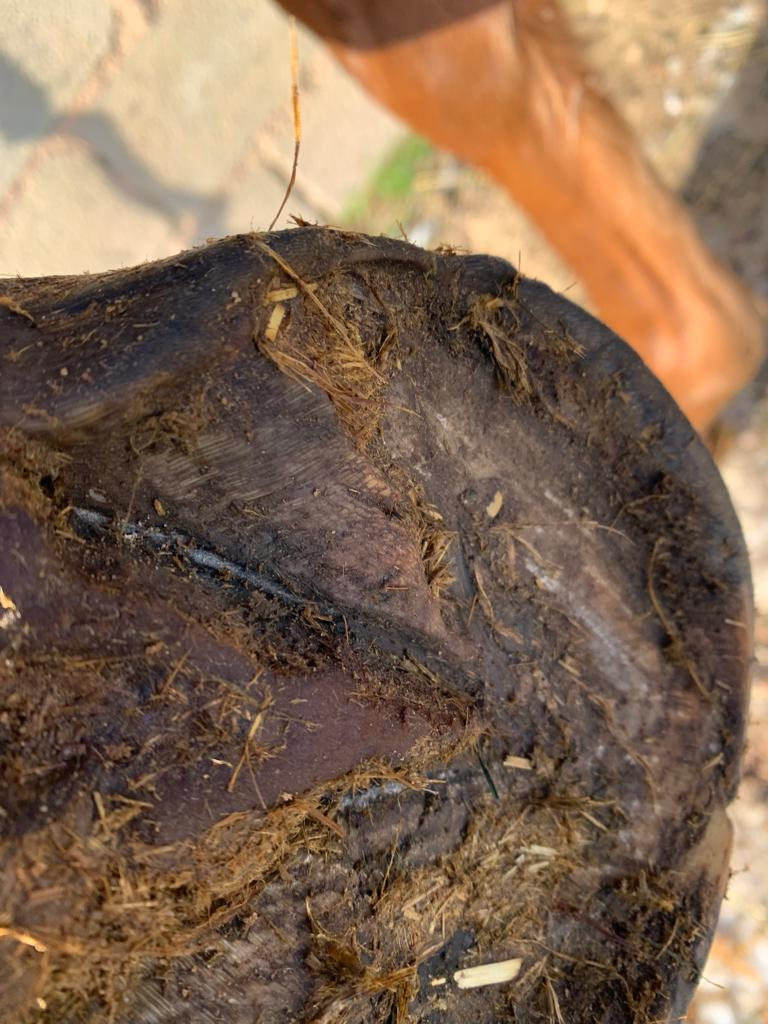horsesole: (1, 225, 755, 1024)
